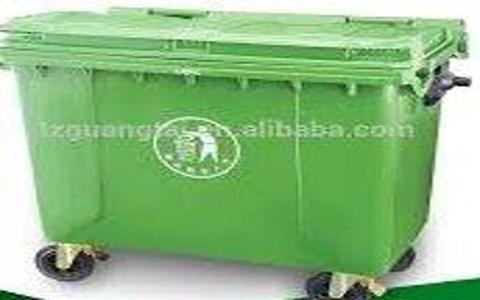Proper garbage: (5, 1, 464, 299)
